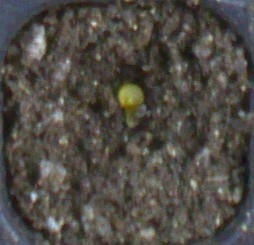pepper seed: (46, 28, 191, 136)
